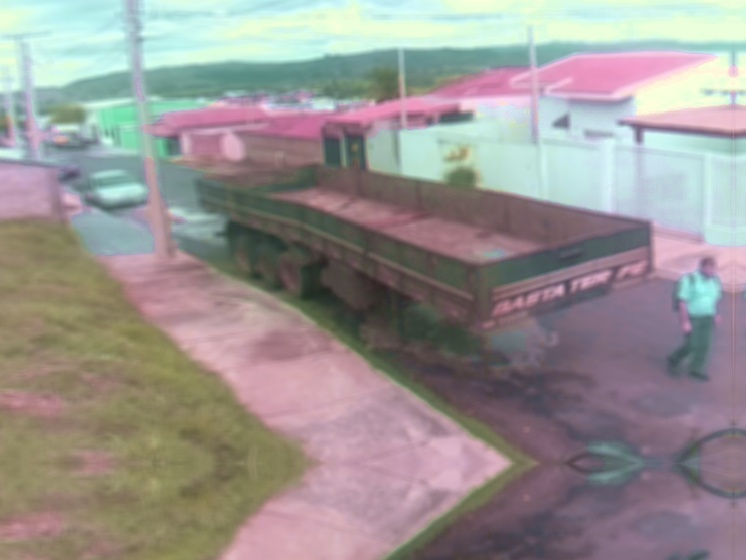person: (666, 256, 721, 382)
